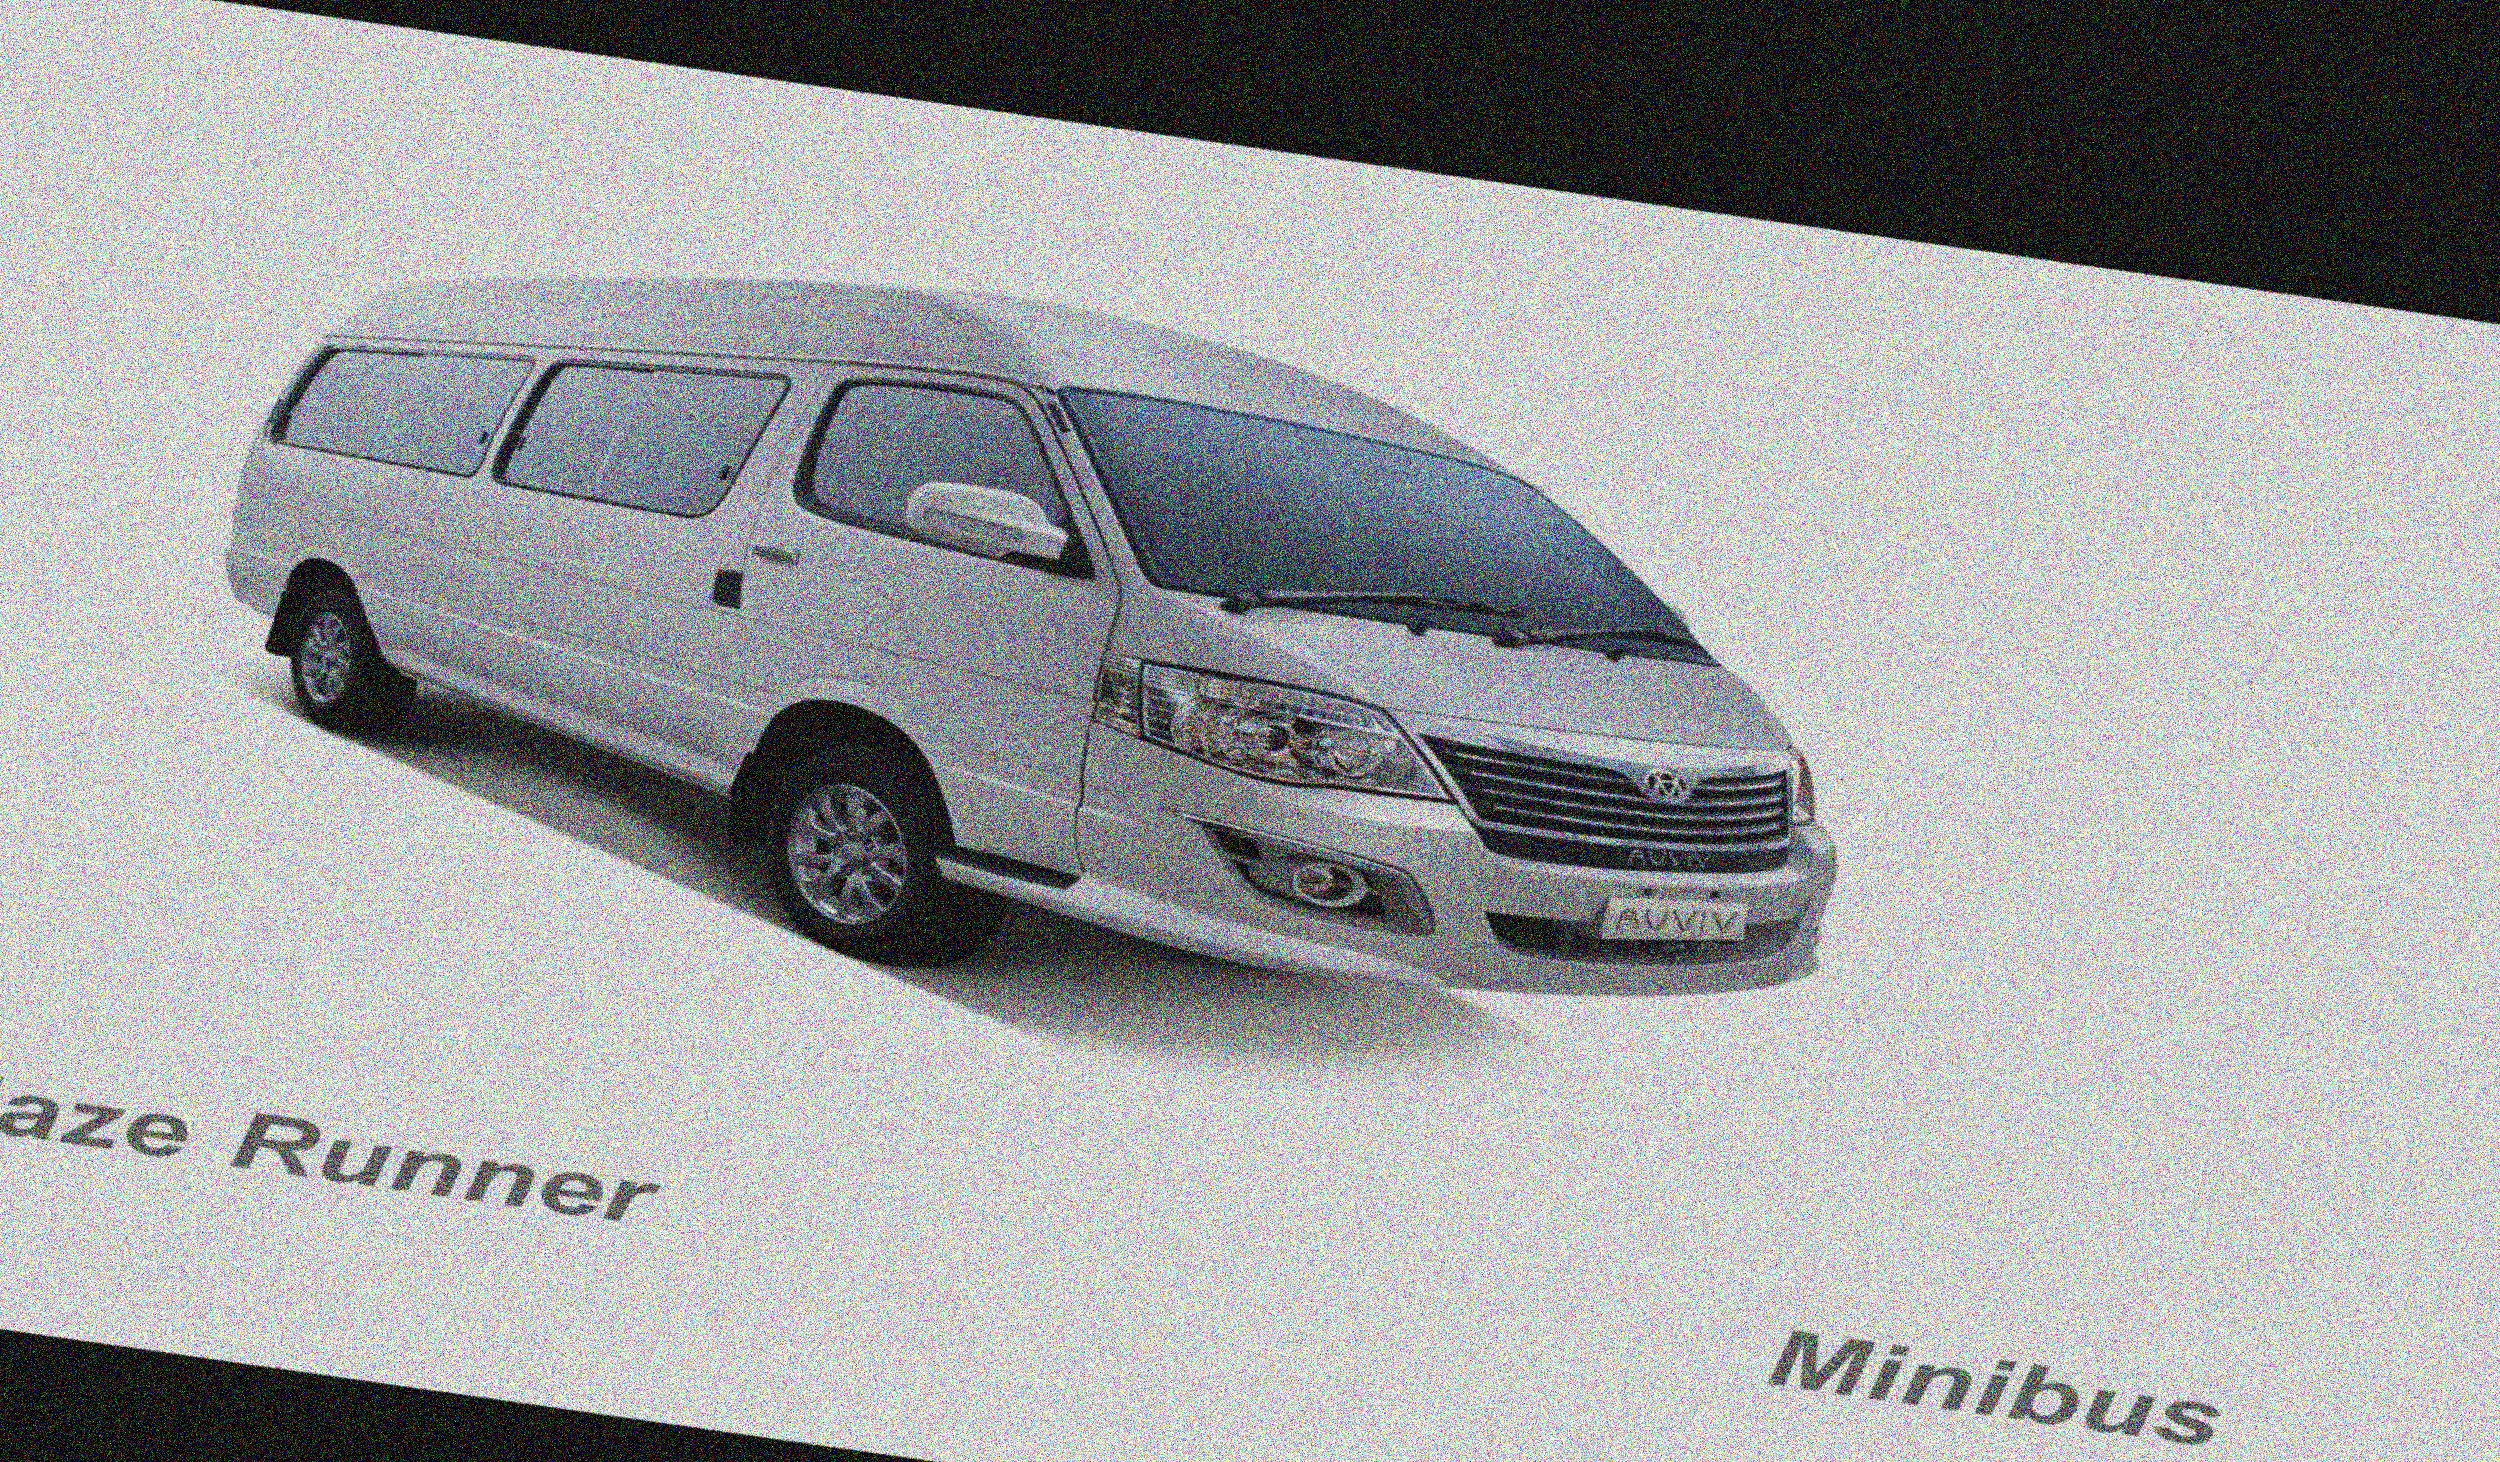van: (125, 77, 1983, 1170)
